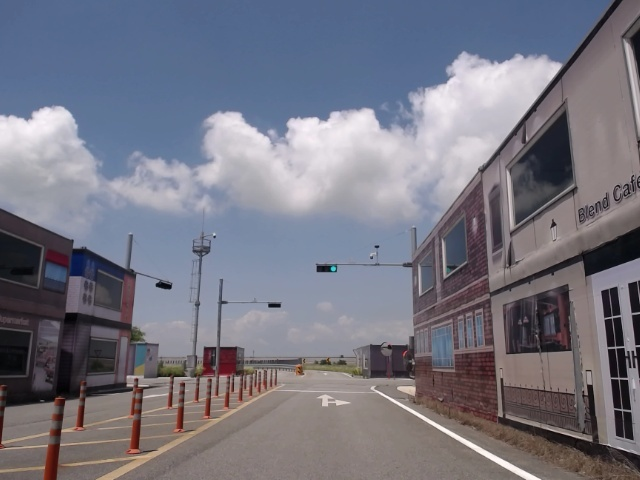green_3: (317, 265, 337, 271)
